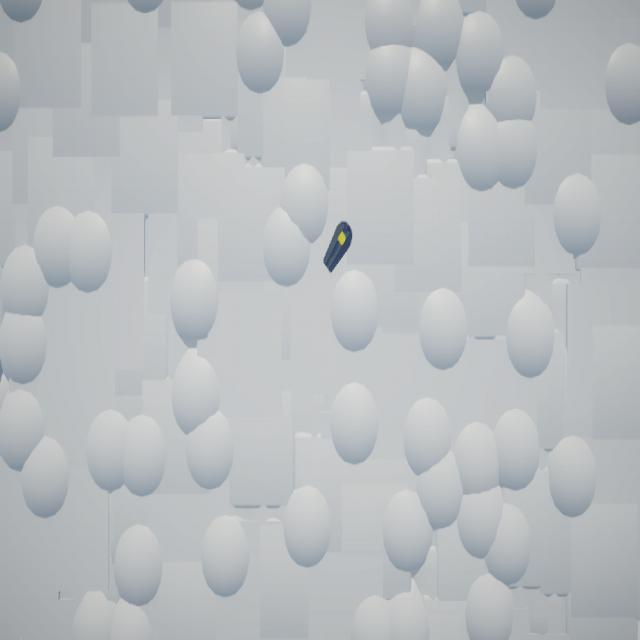handle_folk: (324, 222, 353, 275)
